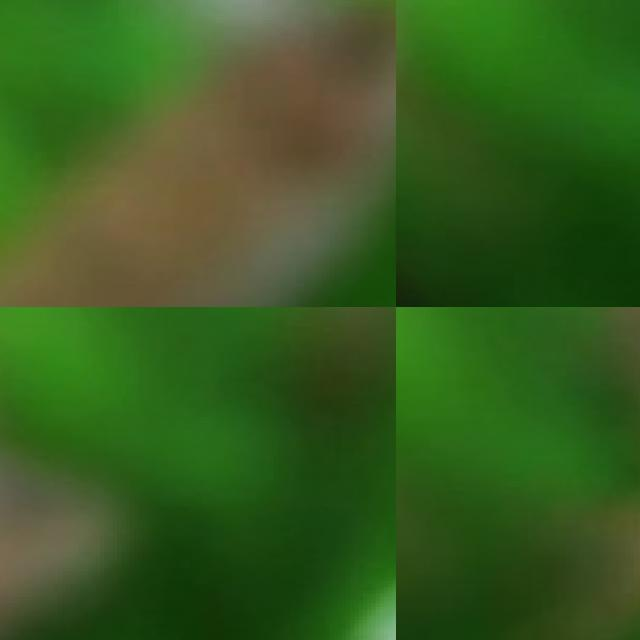fish: (0, 0, 396, 307), (472, 307, 640, 640)
